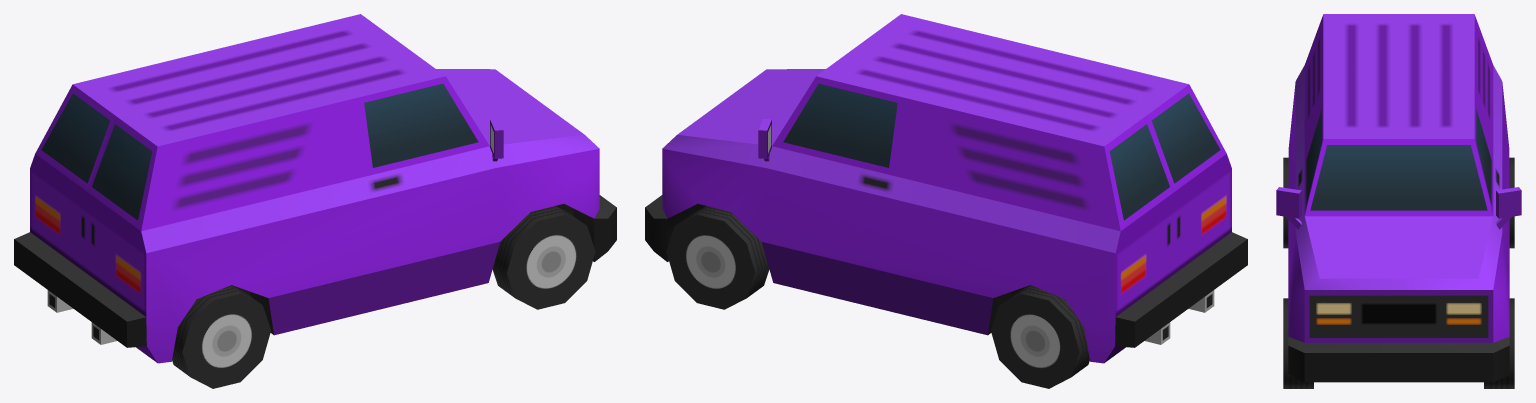
File: Car_042.glb
The picture shows the model from 3 angles, left to right: view 1: azimuth 30°, elevation 25°; view 2: azimuth 150°, elevation 25°; view 3: azimuth 270°, elevation 25°; orthographic projection. The views are drawn at different scales.
Parts seen in each view (by area): view 1: Car_042, wheel_1_Car_042_Wheel_1R, wheel_3_Car_042_Wheel_2R; view 2: Car_042, wheel_0_Car_042_Wheel_1L, wheel_2_Car_042_Wheel_2L; view 3: Car_042, wheel_0_Car_042_Wheel_1L, wheel_1_Car_042_Wheel_1R, wheel_2_Car_042_Wheel_2L, wheel_3_Car_042_Wheel_2R.
Boxes of the visible parts, x1,y1,x2,y2 form: Car_042: [14, 14, 616, 363]; wheel_1_Car_042_Wheel_1R: [492, 206, 595, 309]; wheel_3_Car_042_Wheel_2R: [172, 285, 270, 388]; Car_042: [645, 14, 1247, 363]; wheel_0_Car_042_Wheel_1L: [666, 206, 769, 309]; wheel_2_Car_042_Wheel_2L: [991, 285, 1089, 388]; Car_042: [1276, 14, 1521, 382]; wheel_0_Car_042_Wheel_1L: [1484, 298, 1514, 388]; wheel_1_Car_042_Wheel_1R: [1283, 298, 1313, 388]; wheel_2_Car_042_Wheel_2L: [1509, 157, 1514, 248]; wheel_3_Car_042_Wheel_2R: [1283, 157, 1288, 248].
Size of the model in its own units: 4.06 by 1.84 by 1.97.
1 material, 1 textured.
